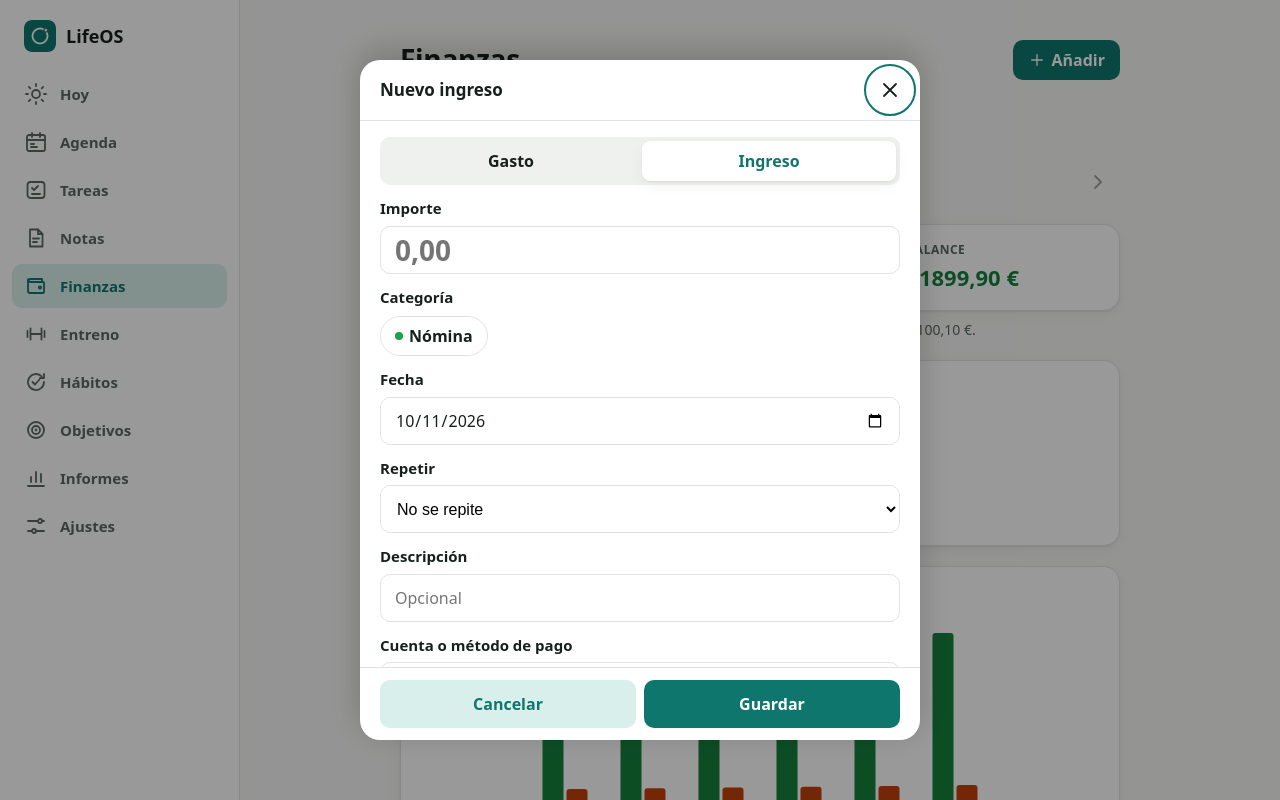
Test case: finanzas › no envía un importe no válido
Type "doce" into the field labelled "Importe" at (640, 250), box [380,226,900,274]
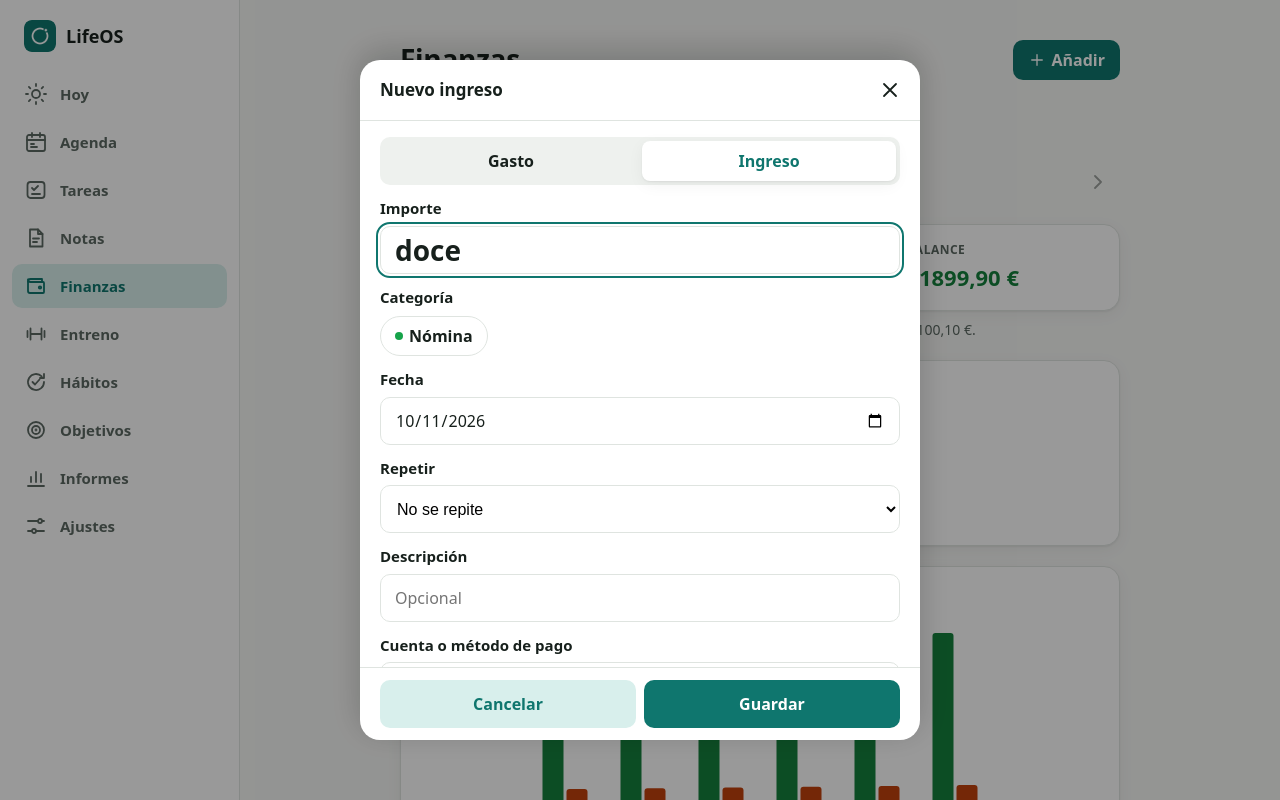
Click the button "Guardar" at (772, 704), box [644,680,900,728]
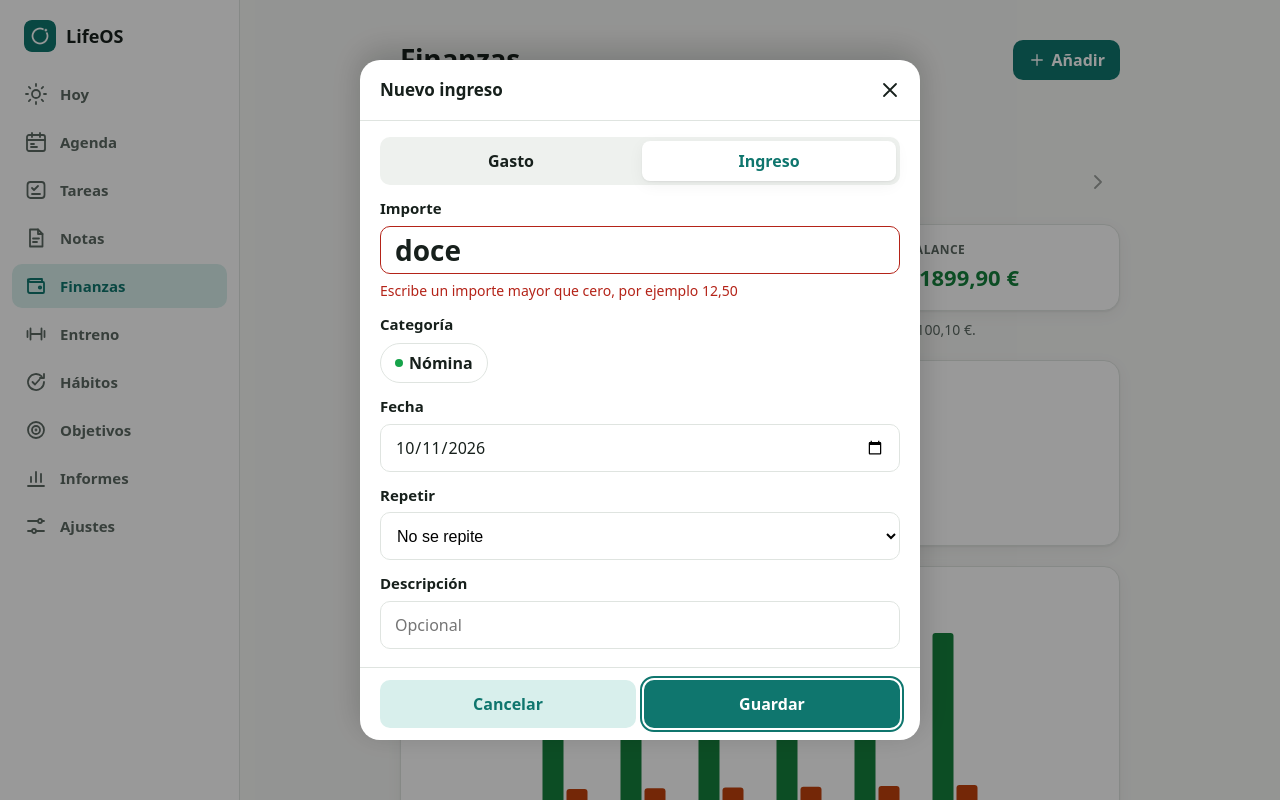
Expected: the text "Escribe un importe mayor que cero, por ejemplo 12,50" is shown, [380,280,738,300]
